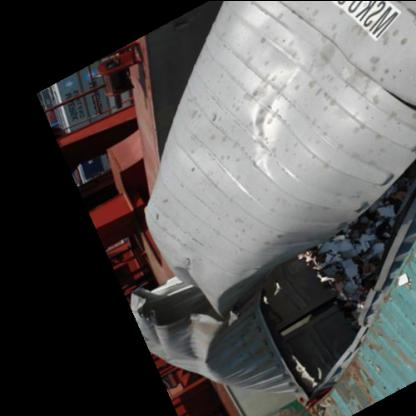Damage: (237, 162, 409, 386)
